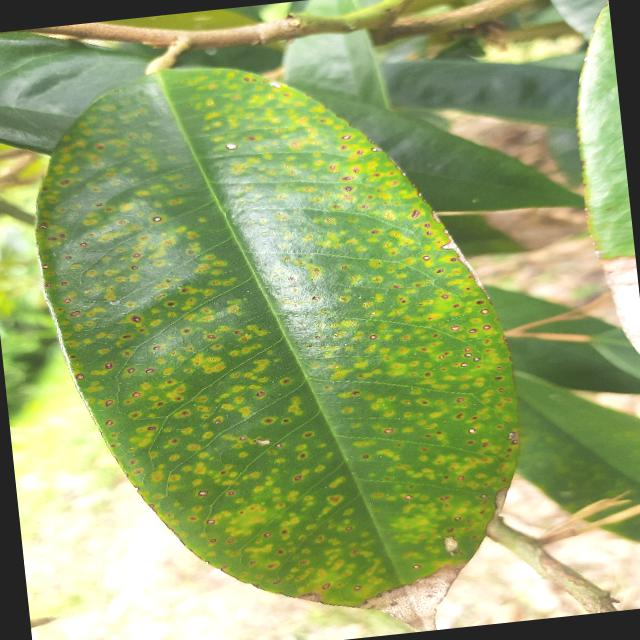Leaf Spot: (7, 22, 552, 639)
